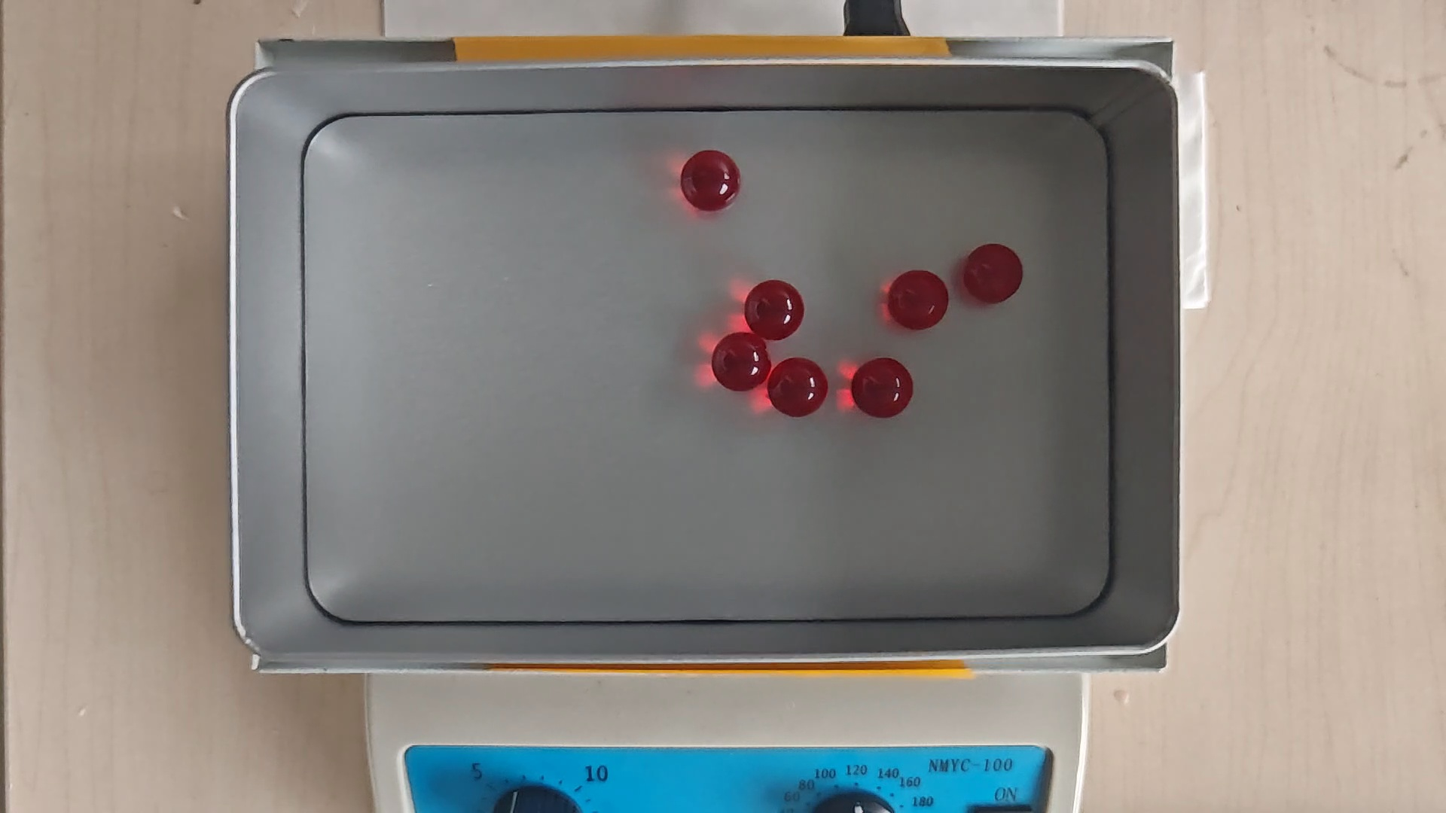ball: (889, 268, 951, 330), (850, 359, 913, 419), (681, 149, 740, 212), (744, 279, 804, 340), (965, 244, 1024, 303), (770, 357, 827, 418), (713, 332, 769, 393)
container: (304, 109, 1111, 622)
